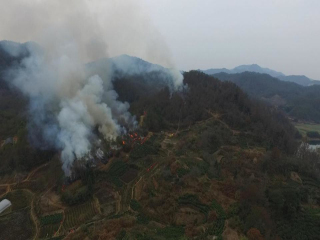smoke: (10, 17, 189, 178)
